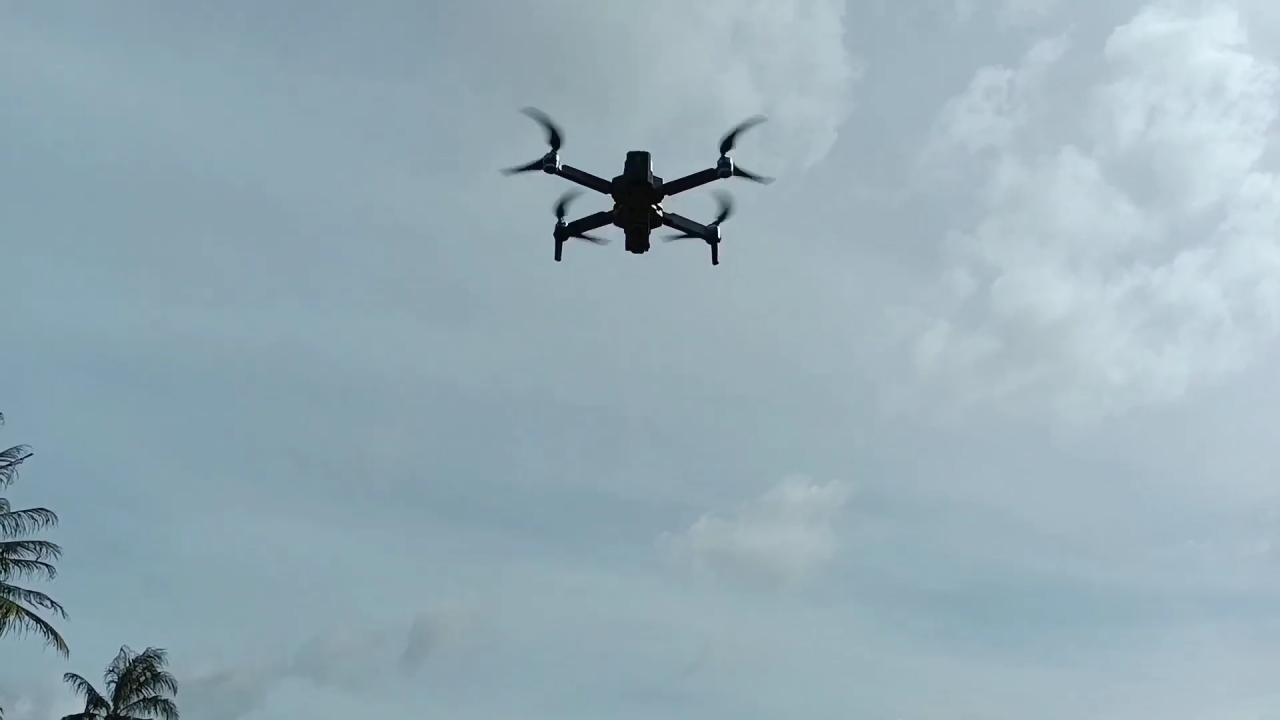Drone: (485, 94, 793, 277)
